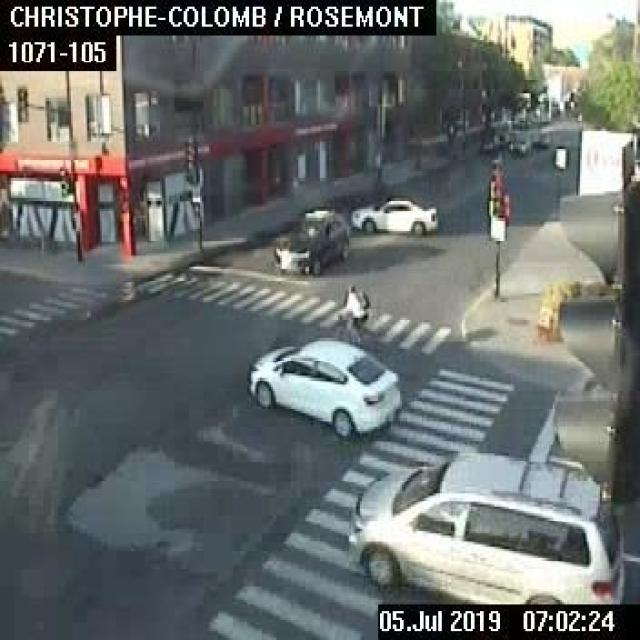cyclist: (334, 282, 370, 343)
vehicle: (346, 451, 622, 603), (248, 337, 399, 437), (273, 205, 348, 275), (351, 196, 436, 234), (508, 134, 530, 154), (479, 134, 498, 150), (531, 131, 548, 146)
